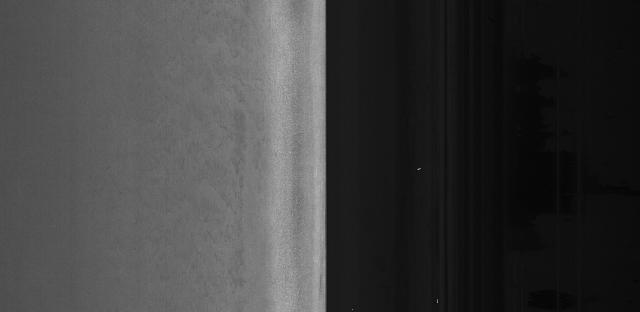silk_spot: (181, 108, 259, 213)
